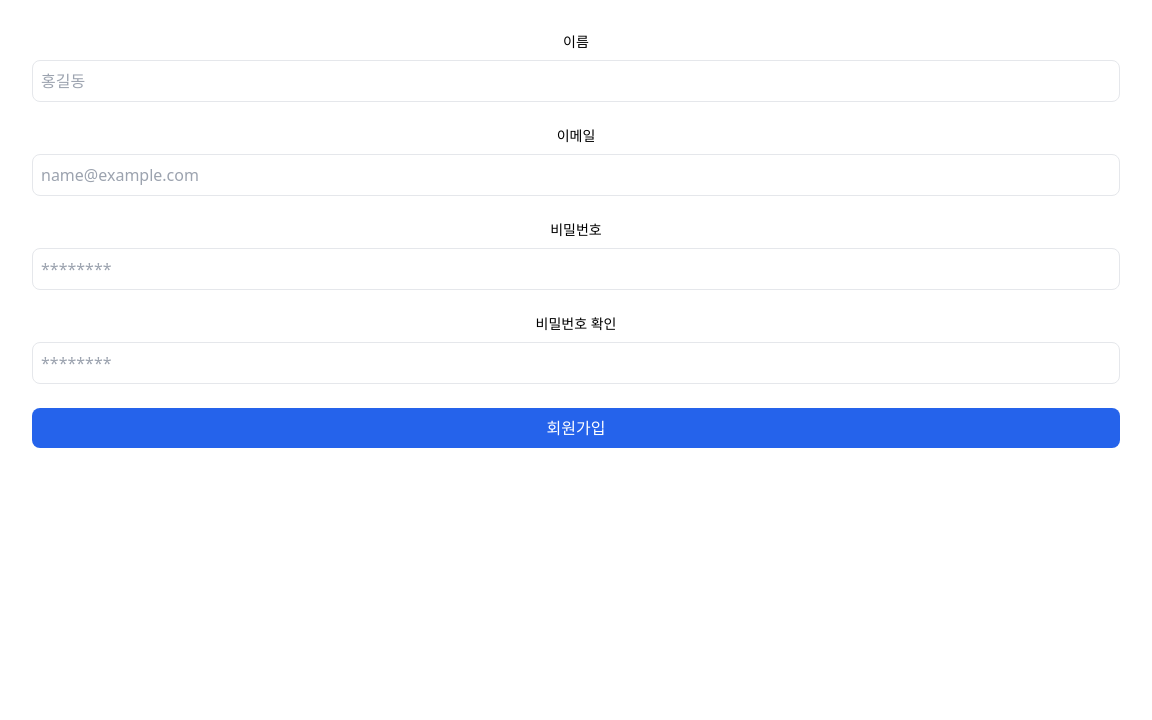
Test: SignupForm › 기본 랜더링 및 유효성 검사 › 이메일 형식이 올바르지 않을 때 에러메시지를 표시해야 함
Type "invalidemail" into the field with test id "email-input" at (576, 175), box [32,154,1120,196]
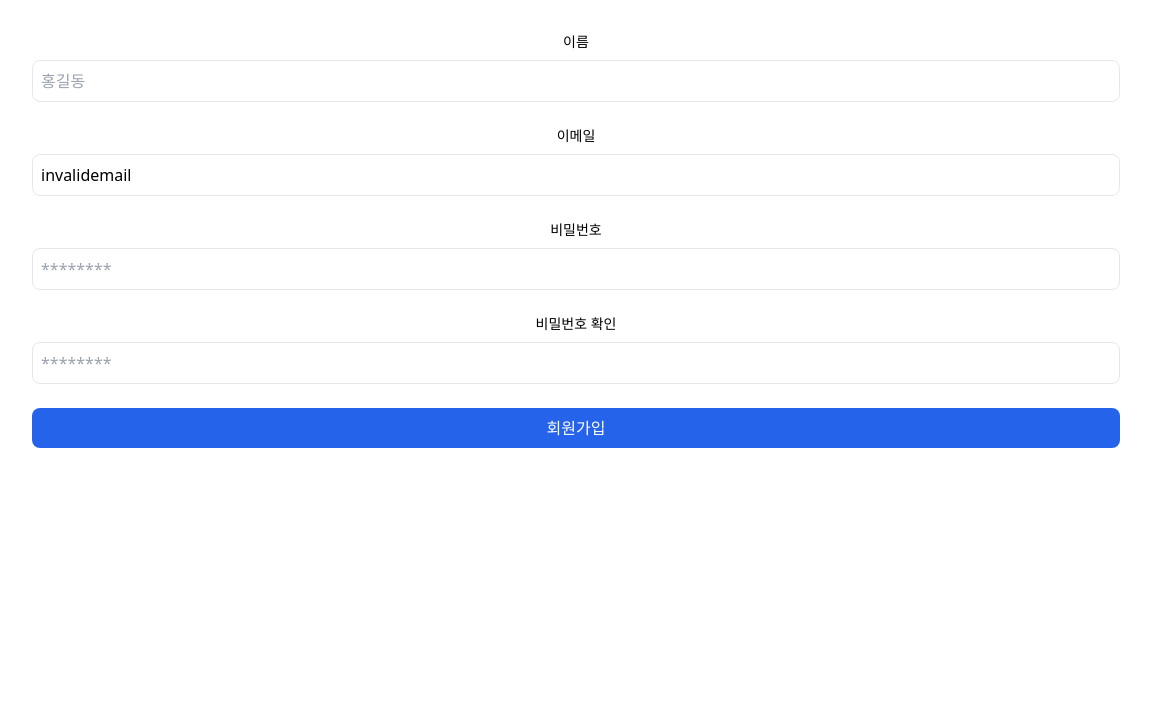
Click the button with test id "submit-button" at (576, 428), box [32,408,1120,448]
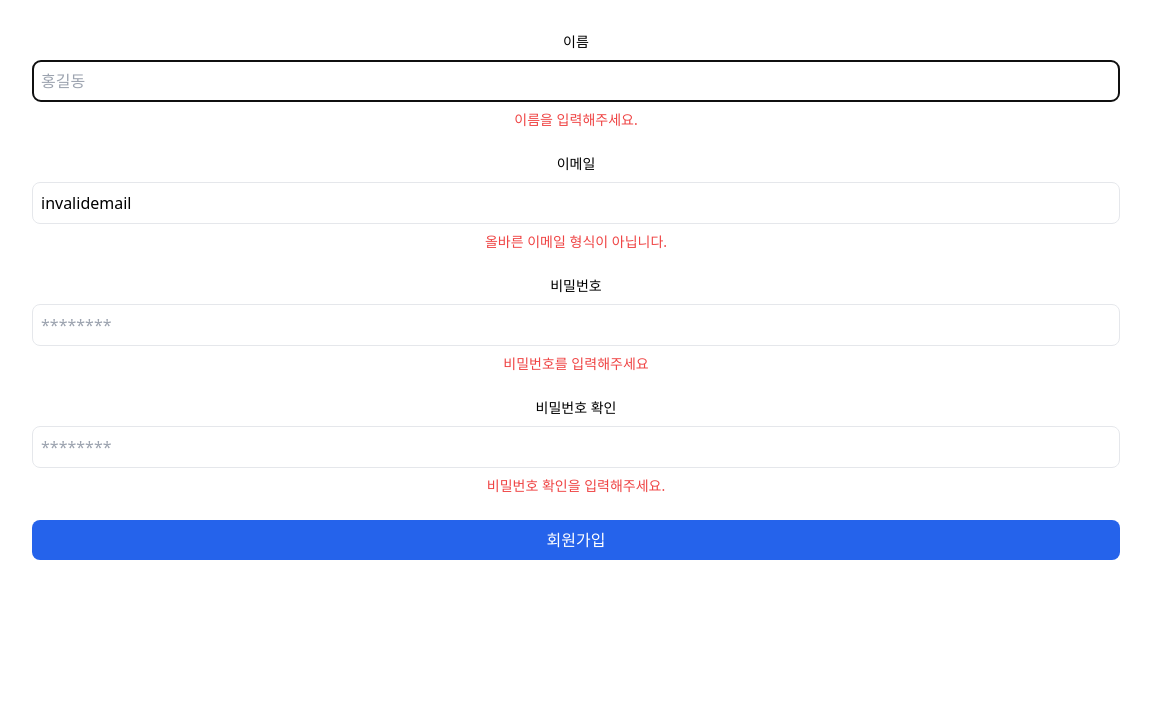
Result: the text with test id "email-error" shows "올바른 이메일 형식이 아닙니다" at [485,232,667,251]
